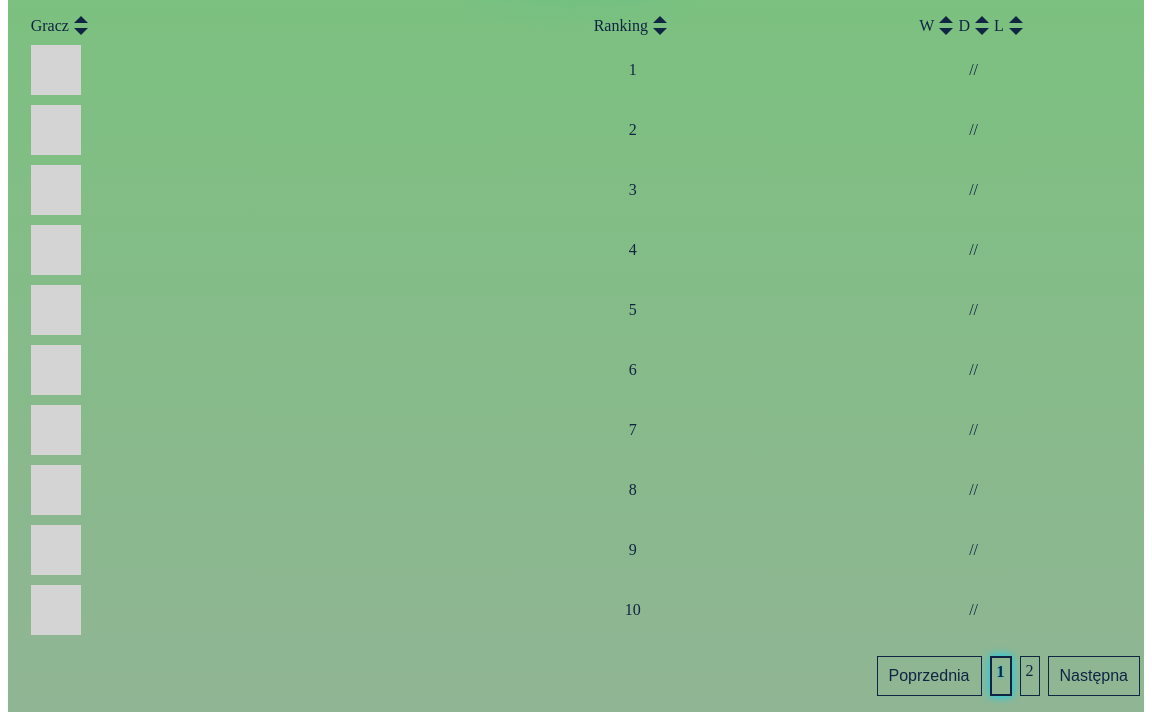
Test: it is possible to go to the next page and then go to the previous one
(page scrolled)
Click the button with id "next-page".
click(1094, 676)  # box [1054, 662, 1134, 690]
(page scrolled)
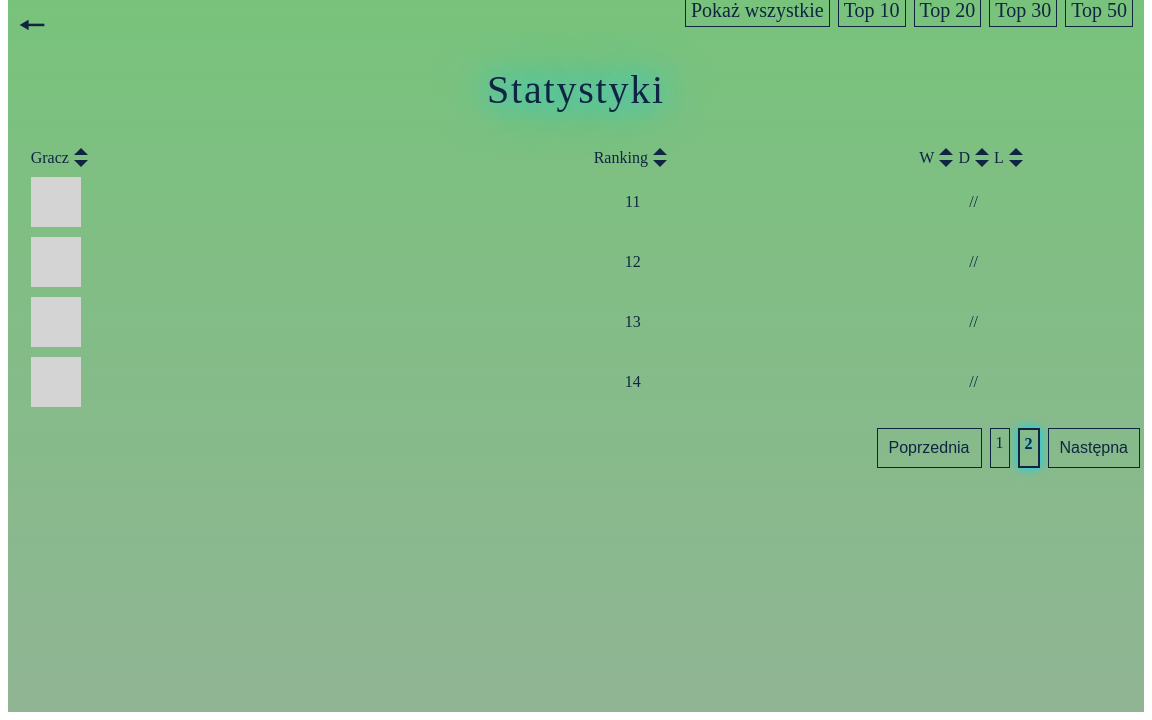
Click the button "Poprzednia".
click(929, 448)  # box [882, 434, 976, 462]
(page scrolled)
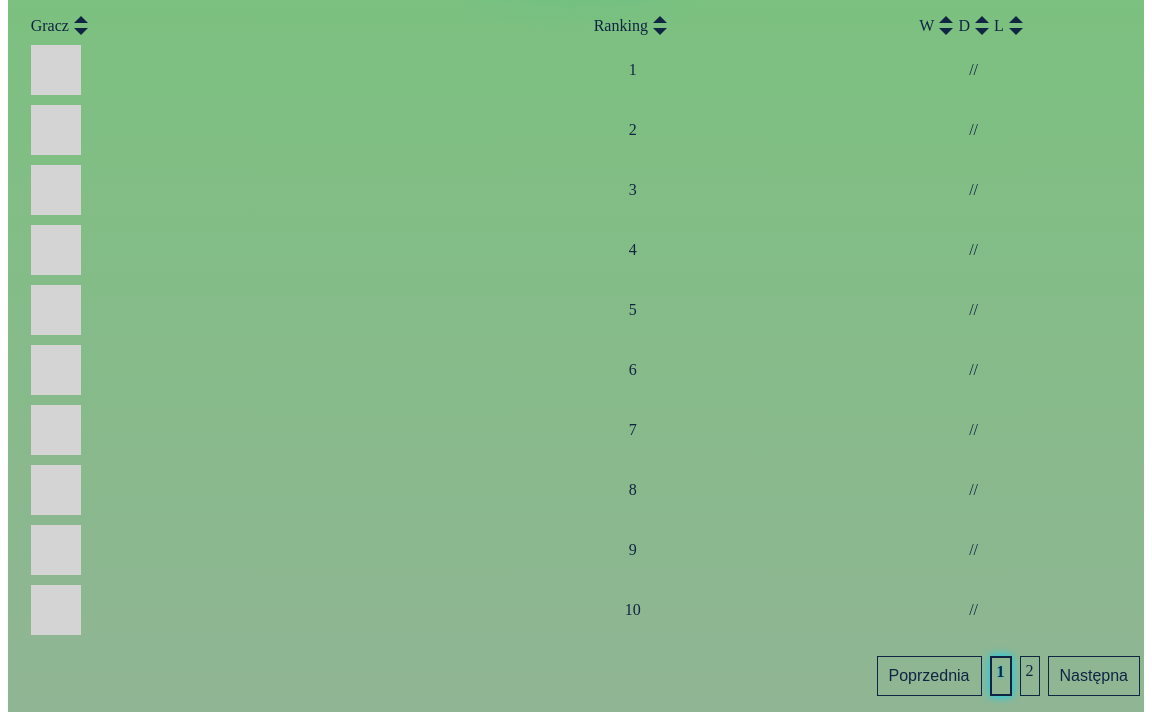
Check: the number of rows is 10
